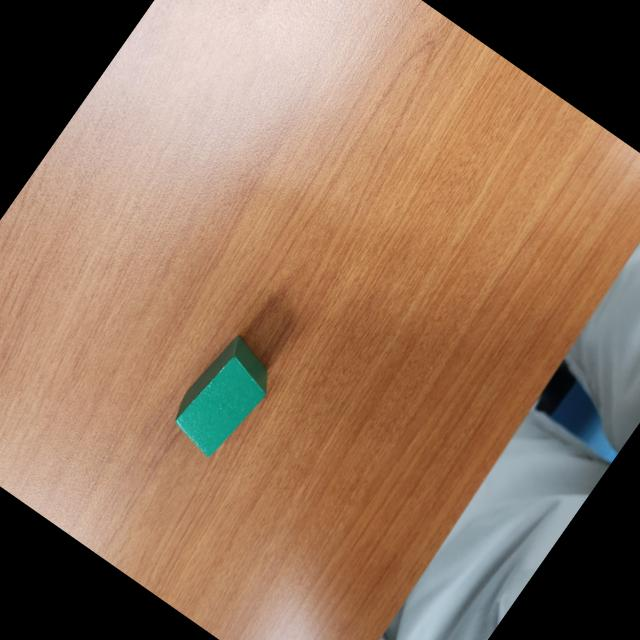green: (162, 328, 285, 464)
